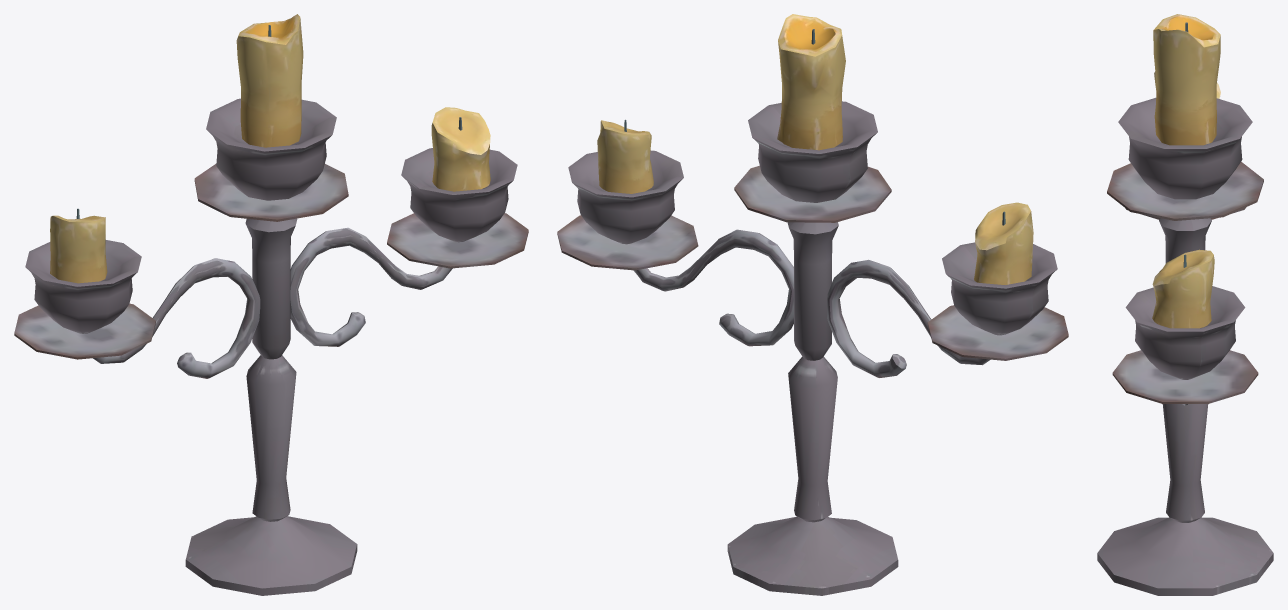
File: CandleStick_Triple.glb
3 views of the same model, side by side, from view 1: azimuth 30°, elevation 25°; view 2: azimuth 150°, elevation 25°; view 3: azimuth 270°, elevation 25° (orthographic).
Visible parts, largest first — view 1: CandleStick_Triple; view 2: CandleStick_Triple; view 3: CandleStick_Triple.
Boxes of the visible parts, x1,y1,x2,y2 form: CandleStick_Triple: (14, 14, 528, 595); CandleStick_Triple: (557, 14, 1068, 595); CandleStick_Triple: (1097, 14, 1273, 595).
Size of the model in its own units: 0.4423 by 0.4633 by 0.1364.
2 materials, 2 textured.
